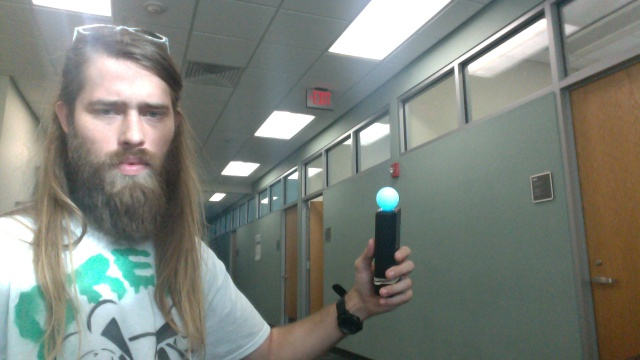wand: (376, 187, 399, 210)
